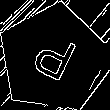P_SW: (25, 27, 80, 89)
